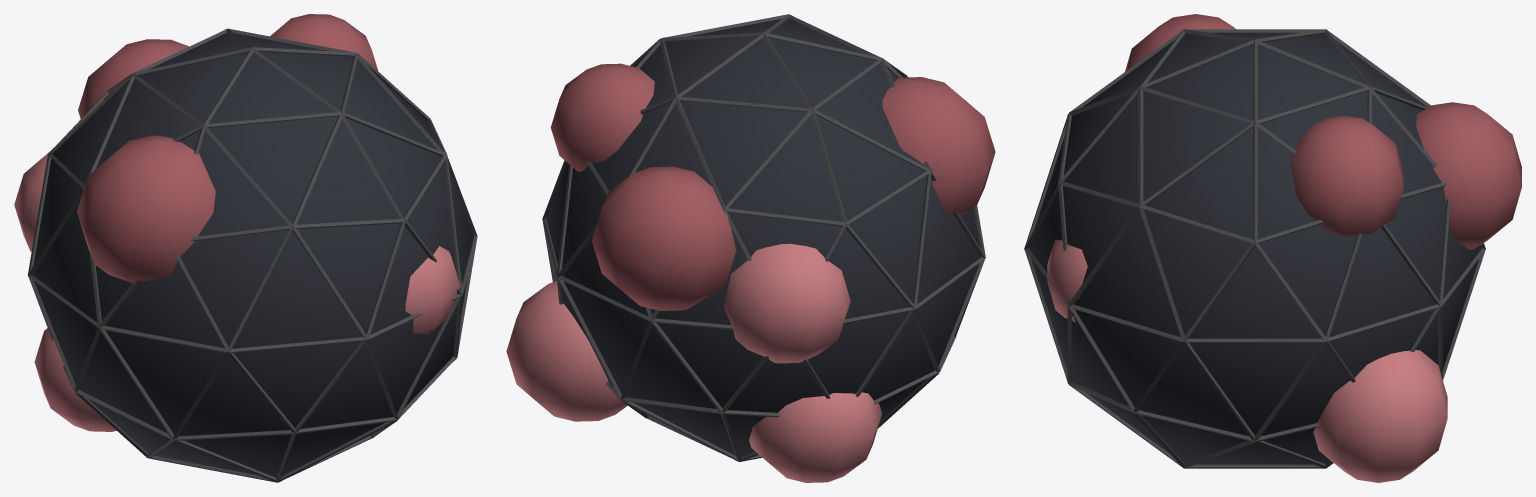
File: nucleus_c_assembled.obj
3 views of the same model, side by side, from view 1: azimuth 30°, elevation 25°; view 2: azimuth 150°, elevation 25°; view 3: azimuth 270°, elevation 25° (orthographic).
Visible parts, largest first — view 1: source_component_000, source_component_124, source_component_125, source_component_126, source_component_127, source_component_121, source_component_122, source_component_086, source_component_087, source_component_098, source_component_070, source_component_097 (+26 smaller); view 2: source_component_000, source_component_127, source_component_122, source_component_124, source_component_123, source_component_126, source_component_121, source_component_082, source_component_064, source_component_068, source_component_054, source_component_029 (+9 smaller); view 3: source_component_000, source_component_123, source_component_121, source_component_127, source_component_125, source_component_124, source_component_057, source_component_074, source_component_103, source_component_105, source_component_088, source_component_104 (+22 smaller).
Boxes of the visible parts, <box> form: source_component_000: <box>33,33,473,477</box>; source_component_124: <box>77,135,215,282</box>; source_component_125: <box>405,246,460,334</box>; source_component_126: <box>34,328,116,431</box>; source_component_127: <box>78,39,188,118</box>; source_component_121: <box>270,14,377,70</box>; source_component_122: <box>14,152,48,251</box>; source_component_086: <box>229,337,366,352</box>; source_component_087: <box>293,228,367,339</box>; source_component_098: <box>99,328,173,439</box>; source_component_070: <box>204,112,341,127</box>; source_component_097: <box>100,325,228,352</box>; source_component_000: <box>546,18,980,456</box>; source_component_127: <box>592,166,736,310</box>; source_component_122: <box>724,243,850,363</box>; source_component_124: <box>882,77,995,214</box>; source_component_123: <box>506,281,627,421</box>; source_component_126: <box>749,392,881,482</box>; source_component_121: <box>550,63,654,171</box>; source_component_082: <box>913,171,931,308</box>; source_component_064: <box>676,96,811,112</box>; source_component_068: <box>813,109,930,171</box>; source_component_054: <box>724,208,845,226</box>; source_component_029: <box>811,110,846,224</box>; source_component_000: <box>1028,33,1481,464</box>; source_component_123: <box>1313,350,1447,482</box>; source_component_121: <box>1290,115,1403,237</box>; source_component_127: <box>1416,102,1521,249</box>; source_component_125: <box>1047,239,1087,322</box>; source_component_124: <box>1125,14,1235,71</box>; source_component_057: <box>1252,122,1257,242</box>; source_component_074: <box>1138,87,1143,205</box>; source_component_103: <box>1184,338,1325,342</box>; source_component_105: <box>1254,341,1326,441</box>; source_component_088: <box>1069,206,1139,306</box>; source_component_104: <box>1184,341,1255,440</box>.
Size of the model in its own units: 0.9112 by 0.9351 by 1.01.
